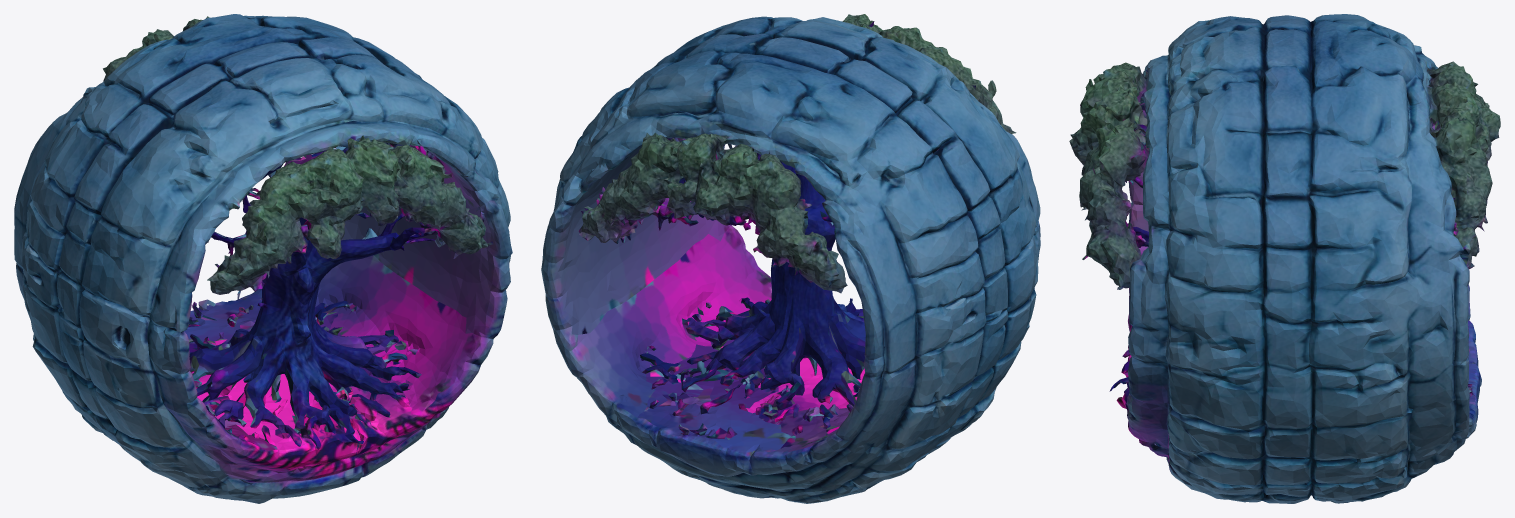
The model's file is world-root-basin.glb.
3 renders of one model, left to right at view 1: azimuth 30°, elevation 25°; view 2: azimuth 150°, elevation 25°; view 3: azimuth 270°, elevation 25°, orthographic. The views are drawn at different scales.
Parts seen in each view (by area): view 1: temp_mesh.ply; view 2: temp_mesh.ply; view 3: temp_mesh.ply.
Part boxes in pixels (bbox=[...]): temp_mesh.ply: bbox=[14, 14, 512, 503]; temp_mesh.ply: bbox=[541, 14, 1040, 503]; temp_mesh.ply: bbox=[1069, 14, 1500, 503].
Bounding box in the file's own units: 1.97 × 1.93 × 1.75.
Materials: 1 (1 with a texture image).
